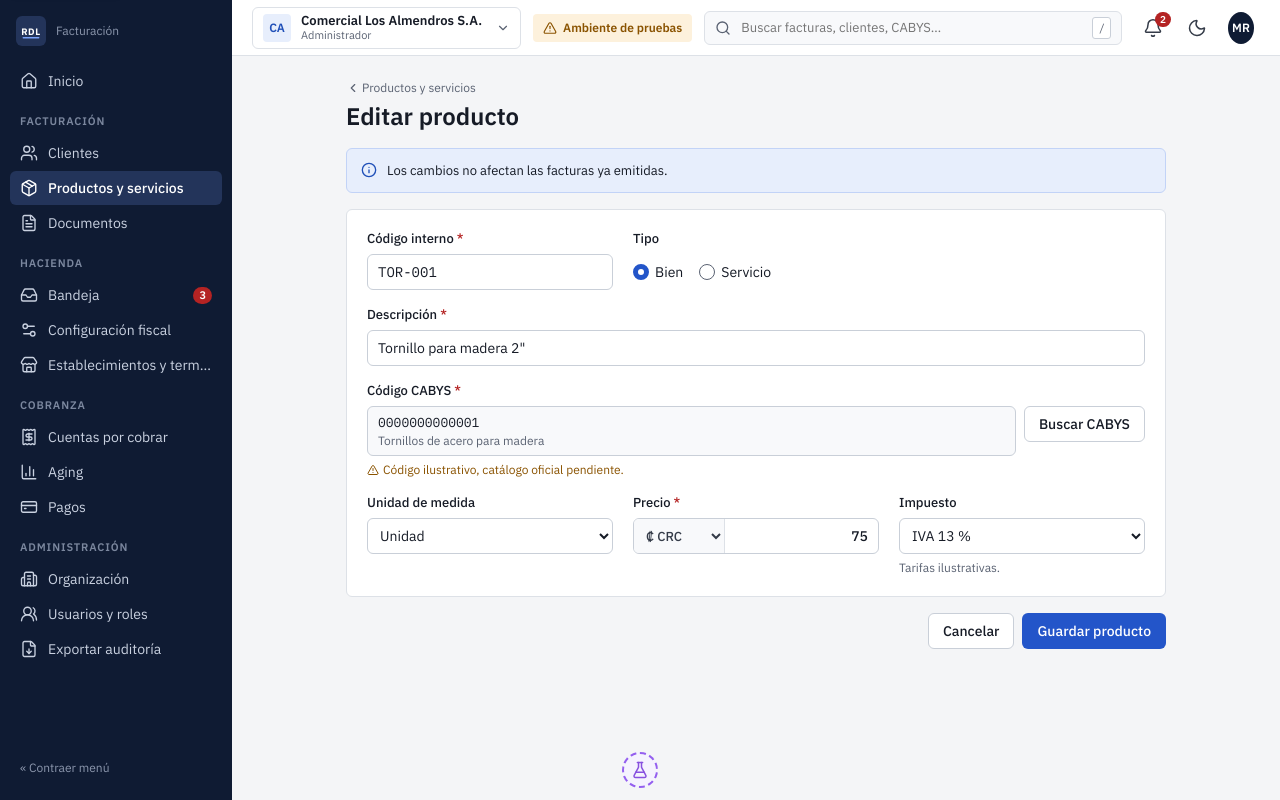
Test case: pantalla 11 · crear y editar producto › código repetido (409) cae en su campo
The width and height of the screenshot is (1280, 800).
Replace the text in the field labelled "Código interno *" with "PIN-020" at (490, 272), box [367,254,613,290]
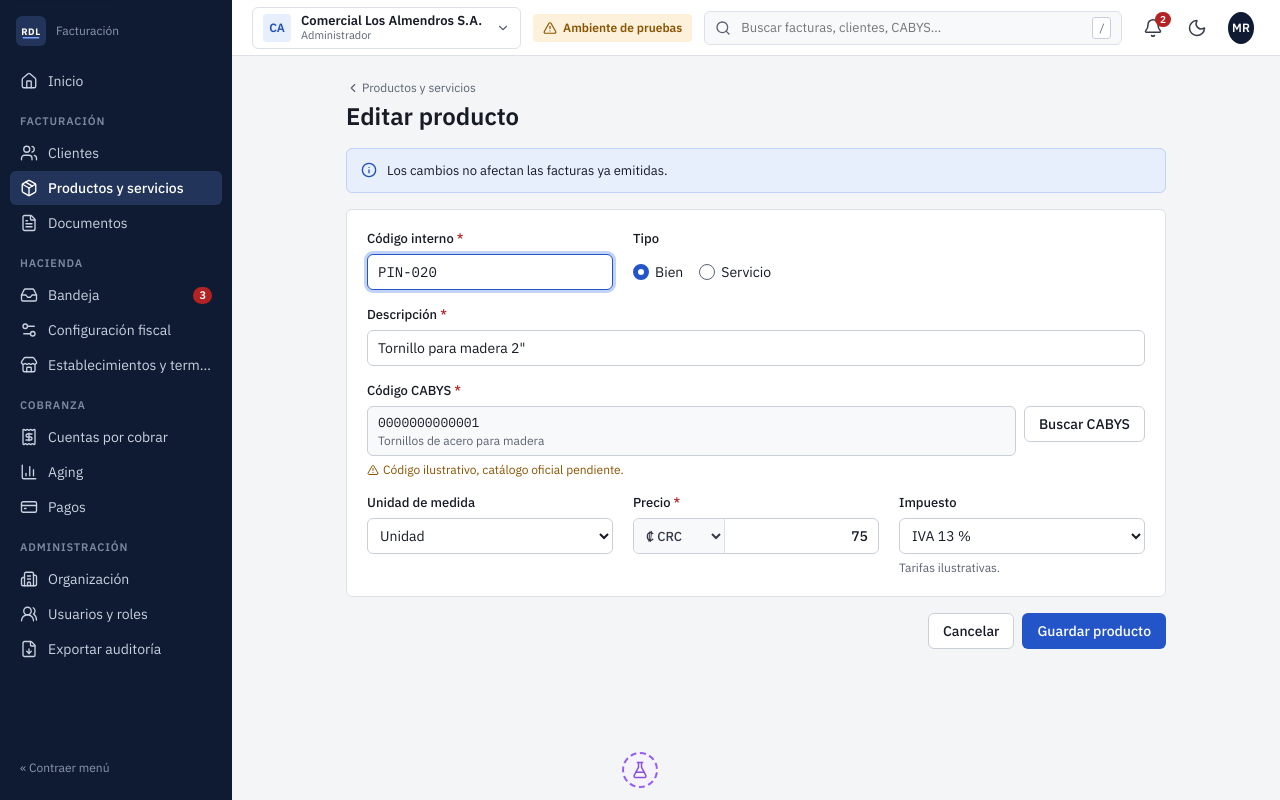
Click the button "Guardar producto" at (1094, 631), box [1022,613,1166,649]
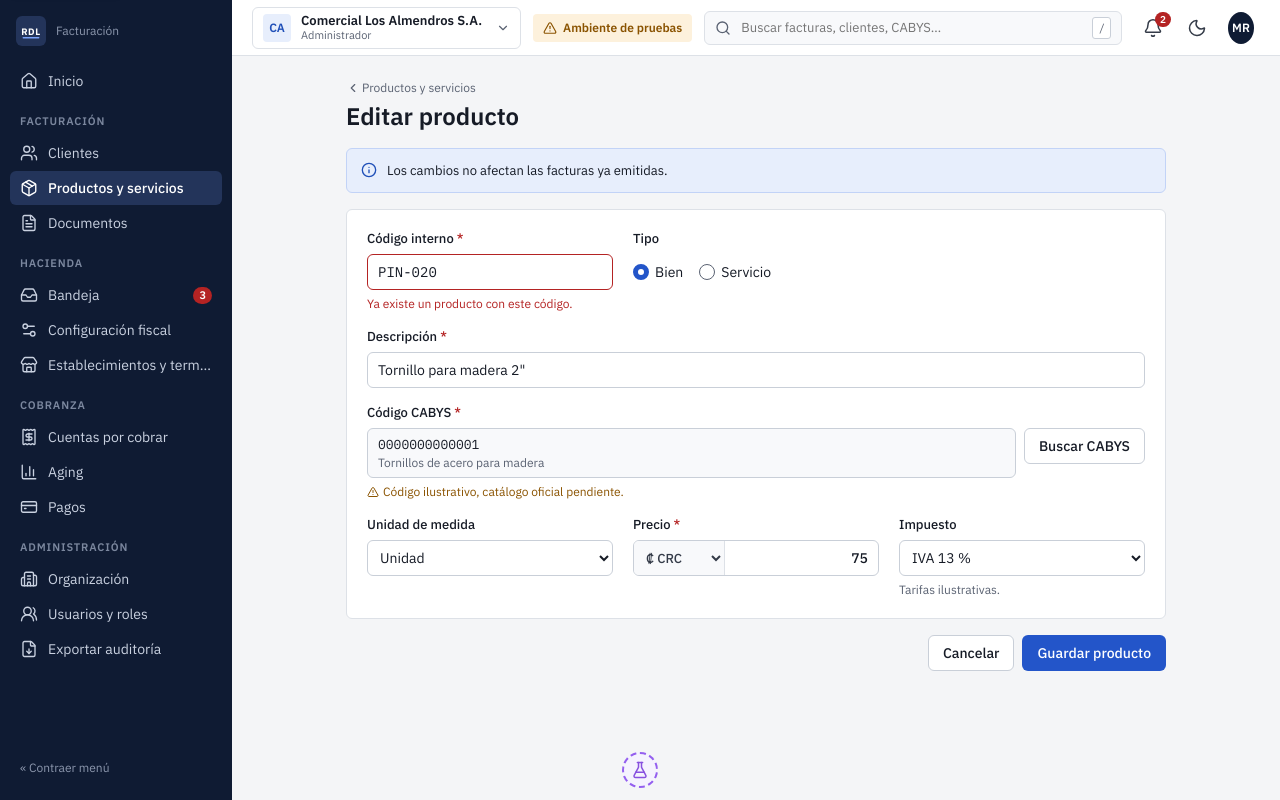
Now the text "Ya existe un producto con este código." is shown, box [367,296,573,311]
